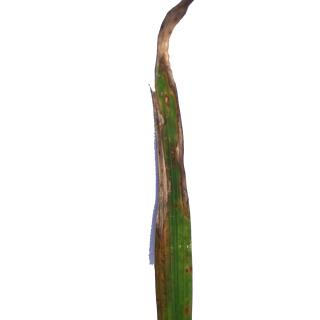Hawar-Daun: (140, 0, 206, 320)
